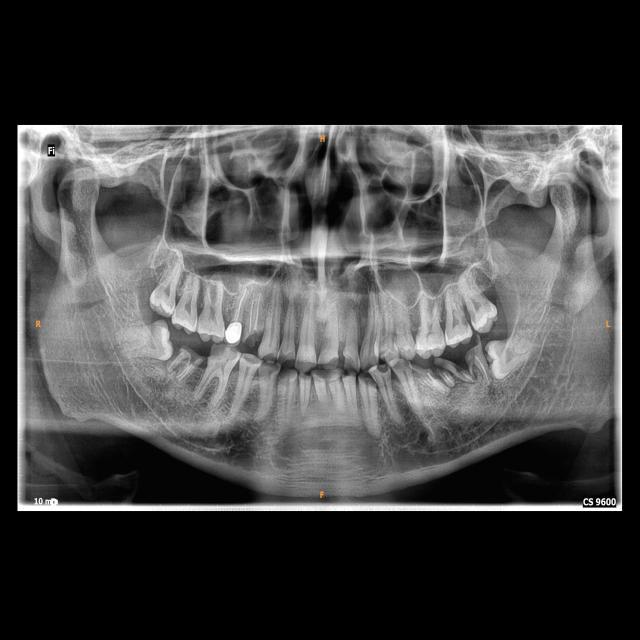dentin-curugu: (206, 343, 231, 362), (181, 348, 206, 364), (359, 374, 378, 390), (342, 351, 358, 370), (278, 350, 295, 365), (372, 363, 391, 376), (324, 355, 339, 368)
kanal-tedavisi: (166, 357, 193, 383), (245, 296, 262, 328), (232, 289, 247, 325), (475, 364, 493, 384), (424, 378, 446, 392), (442, 375, 458, 391)
kaplama: (226, 323, 242, 345)
kirik: (411, 360, 453, 380), (460, 337, 488, 366), (240, 327, 264, 347)
